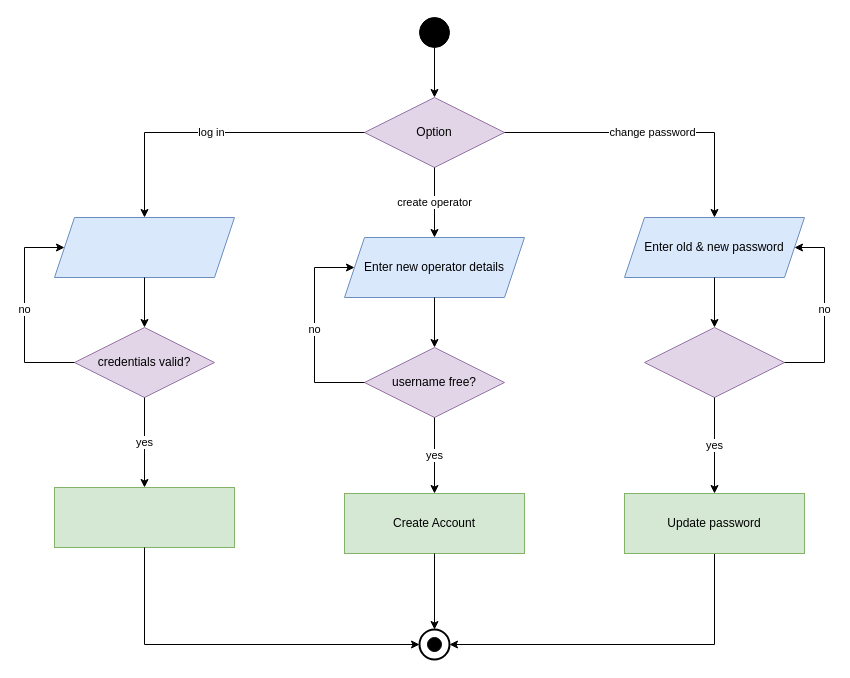
This 850x678 diagram has some shape labels left out. Each missing label, with the box of its shape:
Enter username & password: (54, 216, 234, 278)
Log In to System: (54, 486, 234, 548)
old password valid?: (644, 326, 784, 398)
